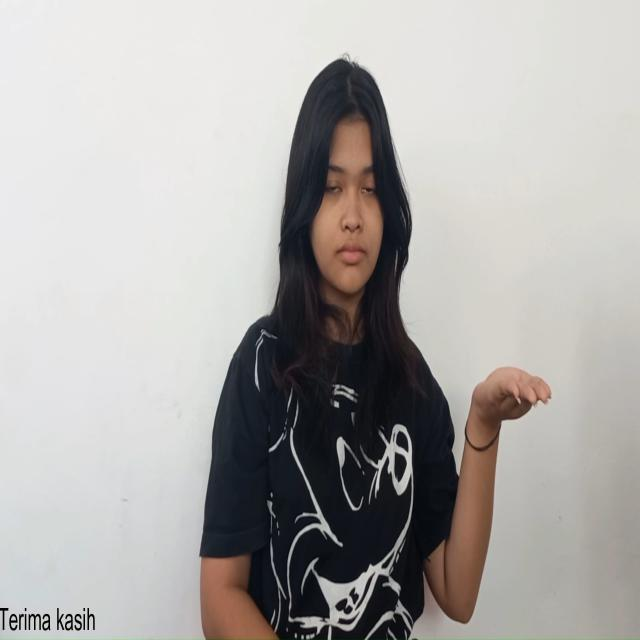Terima kasih -BISINDO-: (468, 362, 554, 425)
